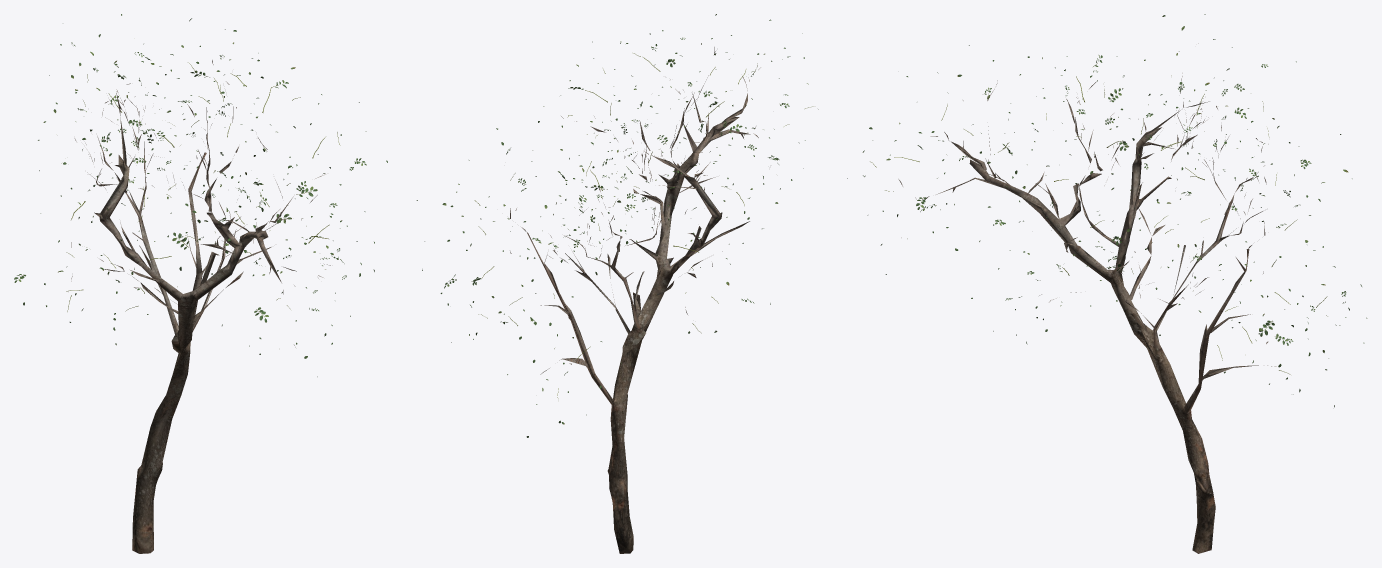
File: tree_small_02_r21e_candidate.glb
3 renders of one model, left to right at view 1: azimuth 30°, elevation 25°; view 2: azimuth 150°, elevation 25°; view 3: azimuth 270°, elevation 25°, orthographic. The views are drawn at different scales.
Parts seen in each view (by area): view 1: drivinglab.hero.tree.lod0-part2, drivinglab.hero.tree.lod0-part1, drivinglab.hero.tree.lod0-part0; view 2: drivinglab.hero.tree.lod0-part2, drivinglab.hero.tree.lod0-part1, drivinglab.hero.tree.lod0-part0; view 3: drivinglab.hero.tree.lod0-part2, drivinglab.hero.tree.lod0-part0, drivinglab.hero.tree.lod0-part1.
Boxes of the visible parts, x1,y1,x2,y2 form: drivinglab.hero.tree.lod0-part2: [94, 152, 278, 553]; drivinglab.hero.tree.lod0-part1: [14, 14, 387, 376]; drivinglab.hero.tree.lod0-part0: [68, 60, 330, 347]; drivinglab.hero.tree.lod0-part2: [527, 117, 739, 553]; drivinglab.hero.tree.lod0-part1: [416, 14, 818, 437]; drivinglab.hero.tree.lod0-part0: [509, 47, 760, 374]; drivinglab.hero.tree.lod0-part2: [969, 122, 1249, 553]; drivinglab.hero.tree.lod0-part0: [898, 43, 1276, 381]; drivinglab.hero.tree.lod0-part1: [847, 14, 1367, 407].
Bounding box in the file's own units: 2.89 × 4.52 × 4.27.
3 materials, 3 textured.
